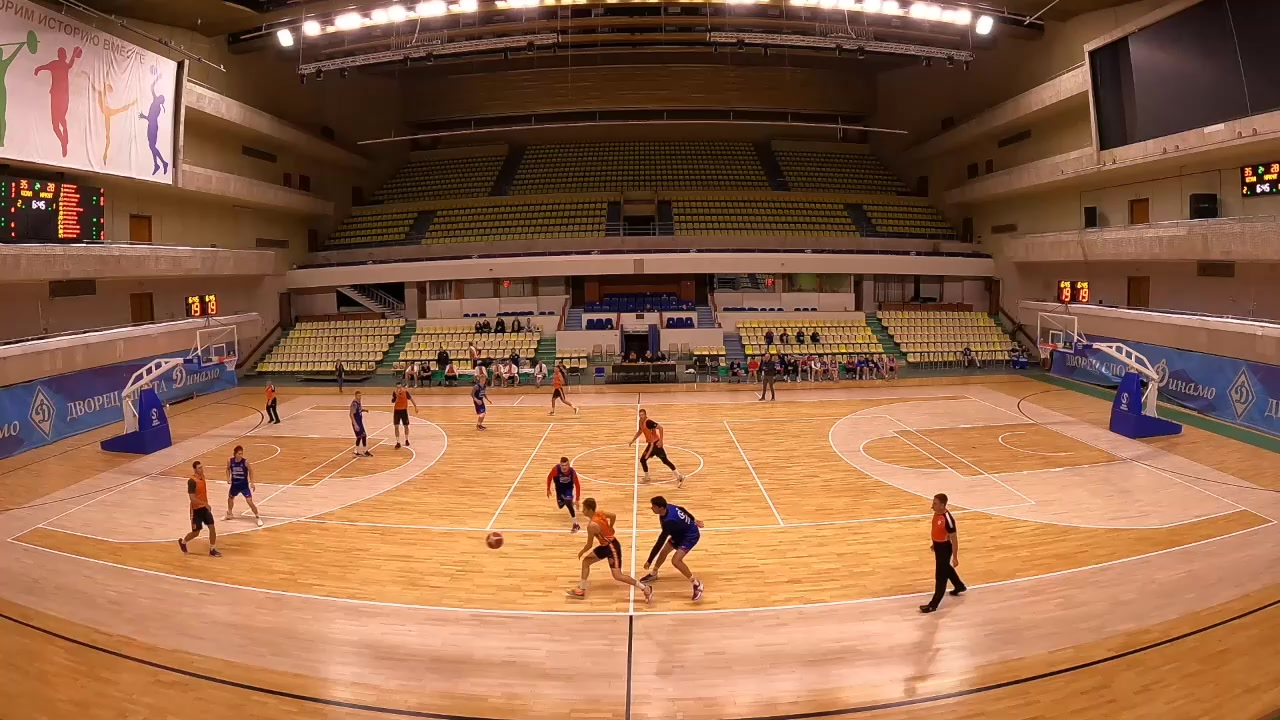basketball: (220, 615, 259, 649)
